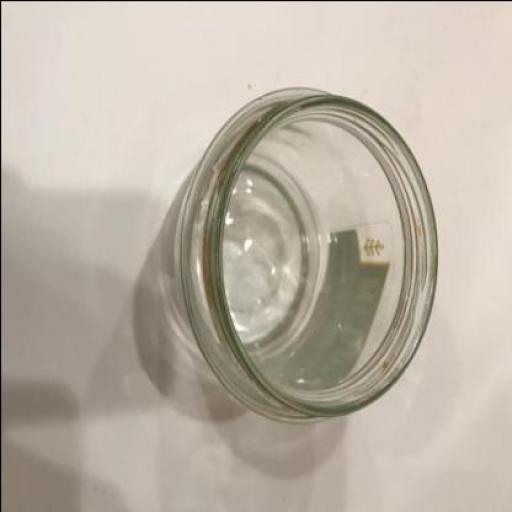glass: (161, 86, 437, 419)
